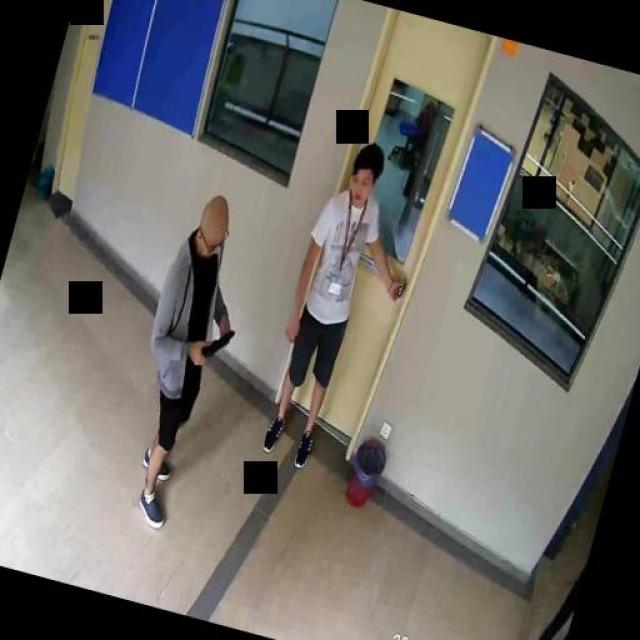gun: (194, 317, 236, 368)
